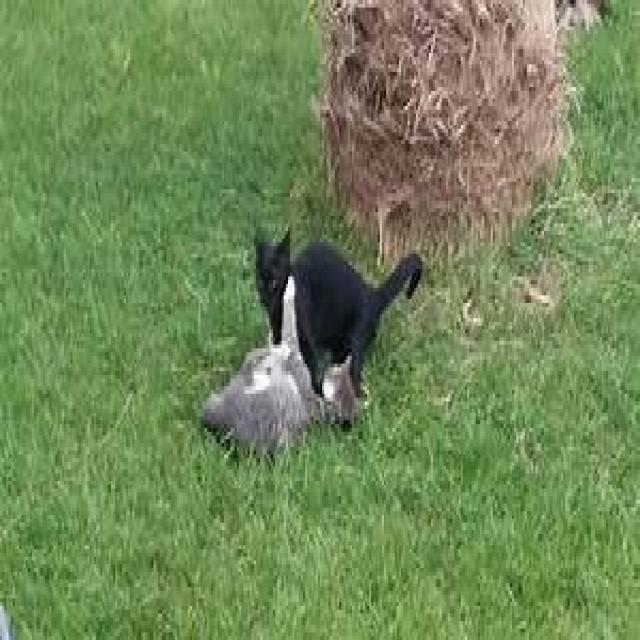cow: (240, 210, 429, 370), (180, 354, 392, 464)
